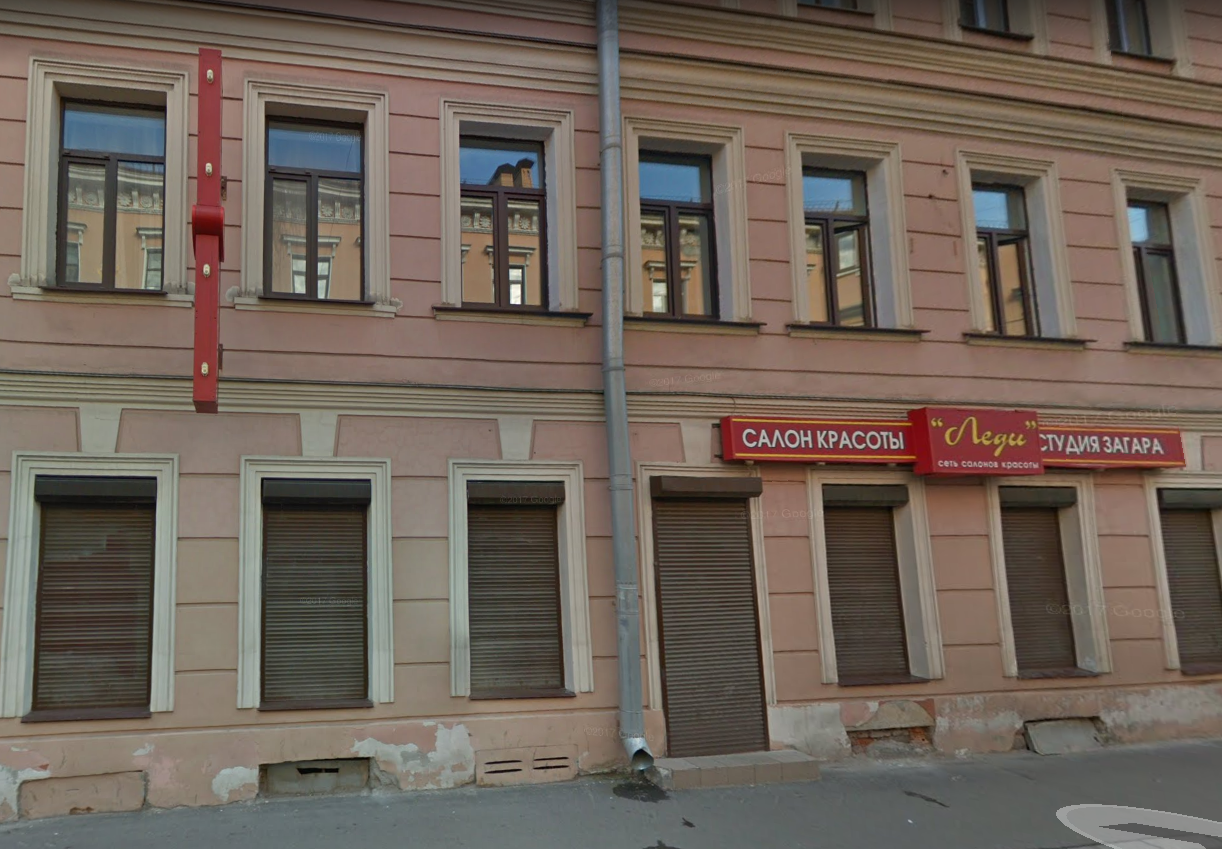cantilever: (175, 39, 250, 415)
door: (651, 475, 767, 755)
signboard: (713, 393, 1185, 481)
window: (35, 477, 146, 701), (58, 95, 170, 293), (263, 509, 366, 704), (262, 117, 370, 302), (824, 501, 913, 682), (475, 504, 558, 689), (463, 131, 545, 317), (642, 148, 717, 317), (1003, 508, 1077, 669), (800, 175, 875, 326), (974, 182, 1040, 338), (1160, 504, 1222, 656), (1128, 200, 1188, 341)
